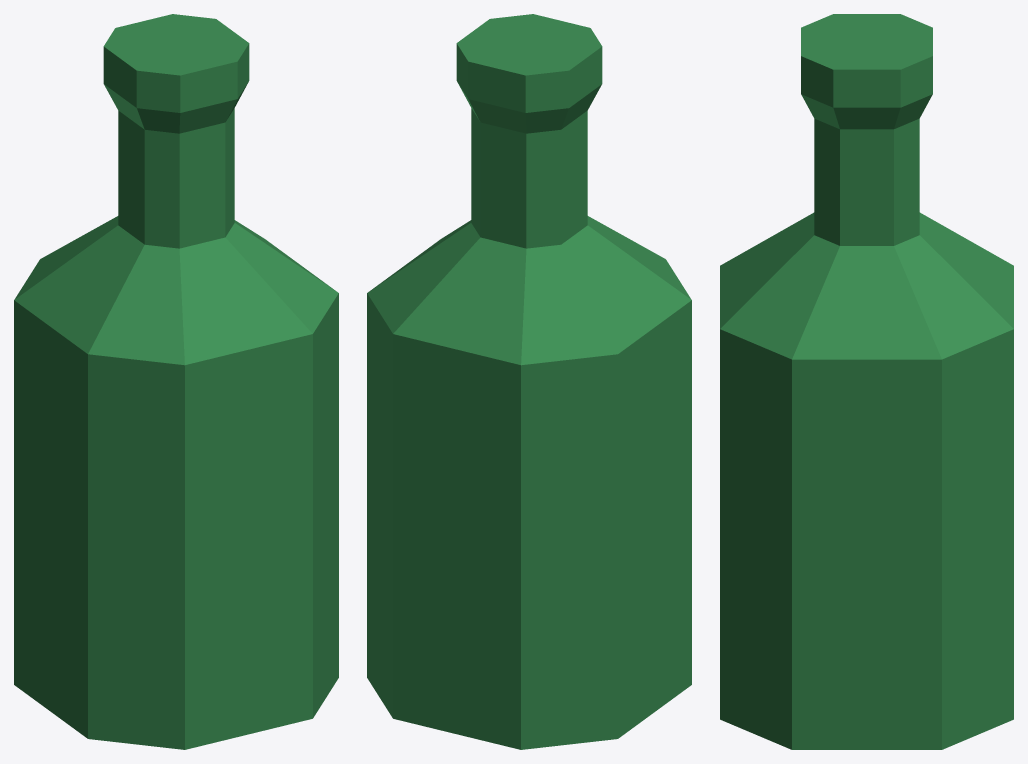
File: bottle.glb
The picture shows the model from 3 angles, left to right: view 1: azimuth 30°, elevation 25°; view 2: azimuth 150°, elevation 25°; view 3: azimuth 270°, elevation 25°; orthographic projection.
Visible parts, largest first — view 1: bottle; view 2: bottle; view 3: bottle.
Boxes of the visible parts, x1=… form: bottle: x1=14, y1=14, x2=338, y2=749; bottle: x1=367, y1=14, x2=691, y2=749; bottle: x1=720, y1=14, x2=1013, y2=749.
Bounding box in the file's own units: 1.74 × 4.22 × 1.74.
